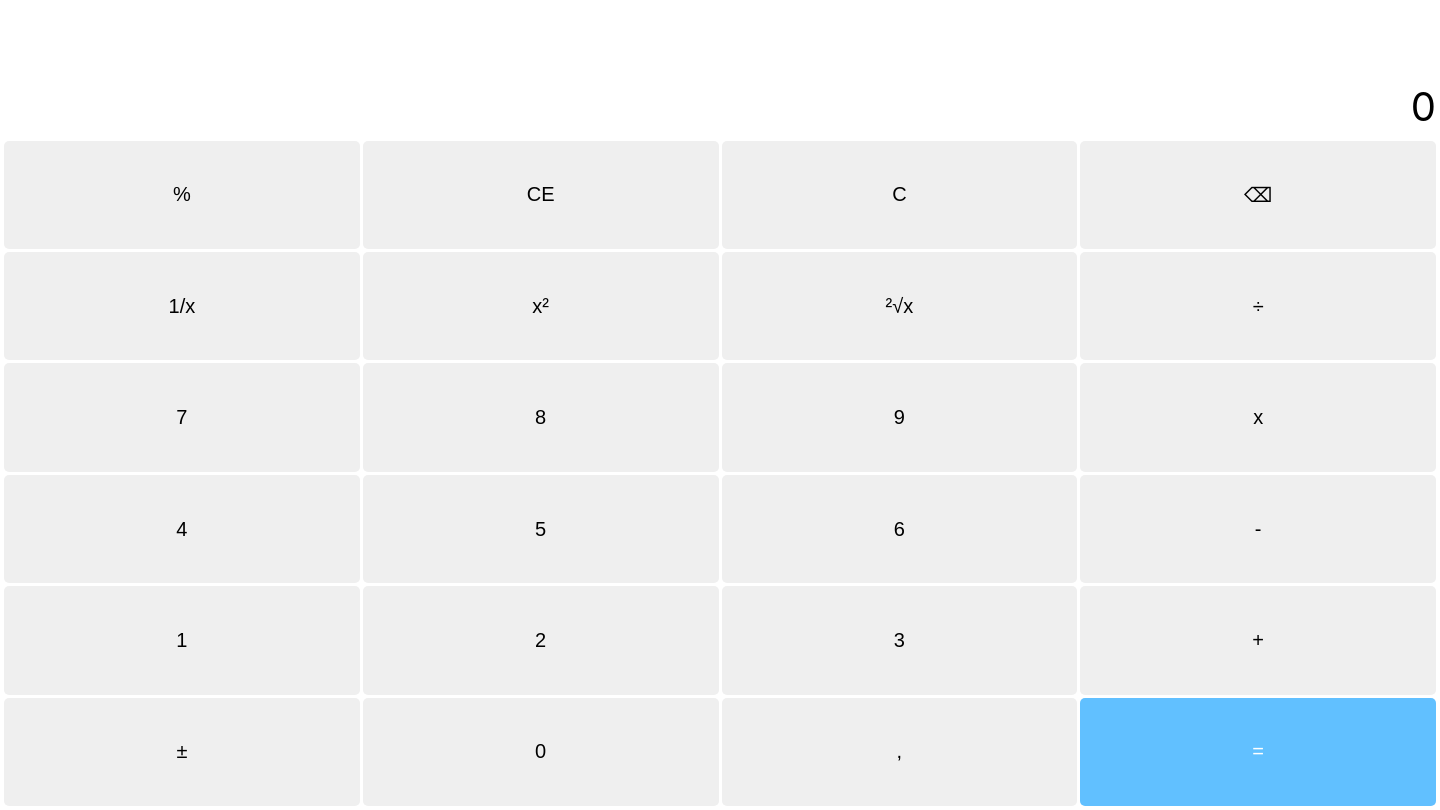
Test: Calculator component › clear entry
Click the button with test id "key-1".
click(182, 640)  # box top-left (4, 586), bottom-right (360, 695)
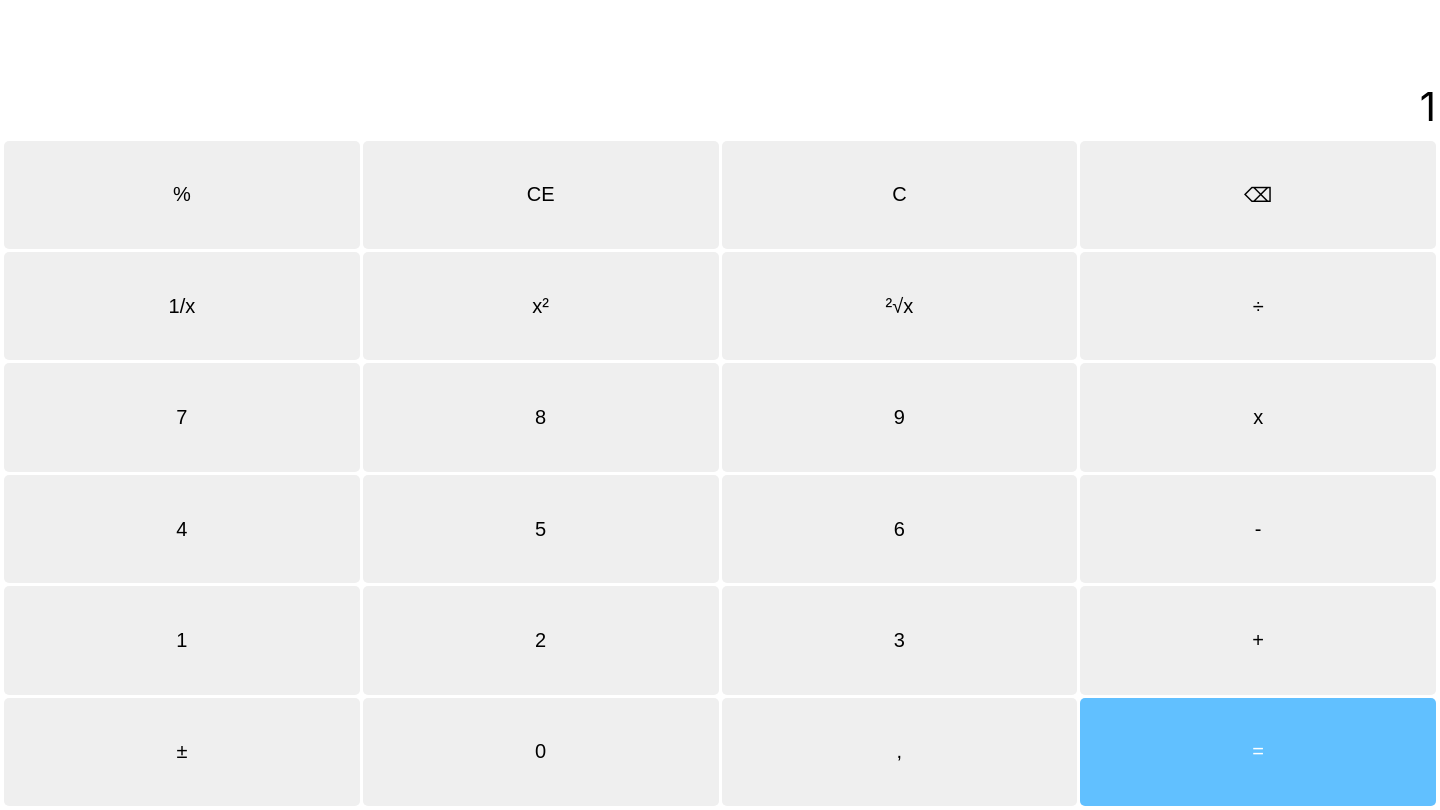
Click the button with test id "key-1".
click(182, 640)  # box top-left (4, 586), bottom-right (360, 695)
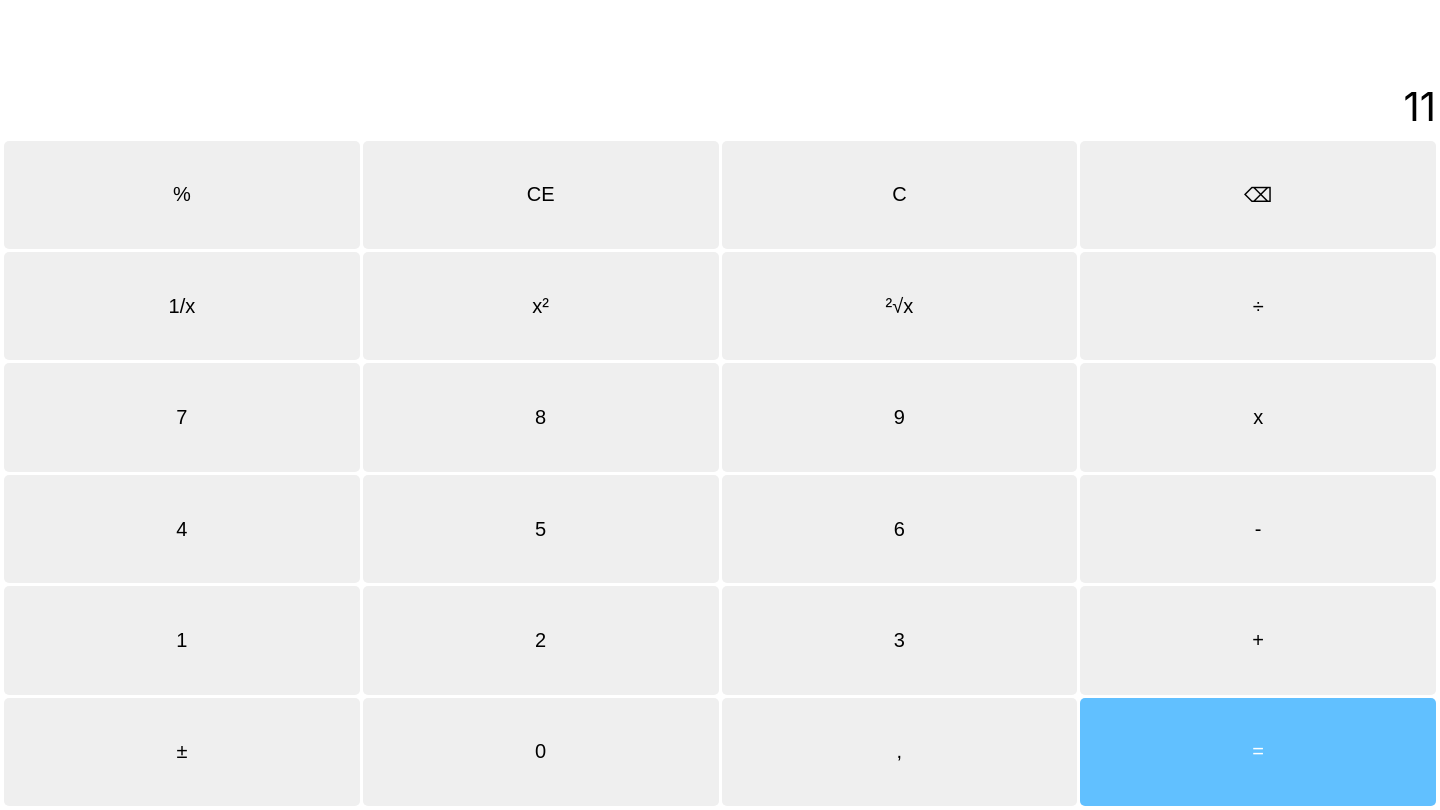
Click the button with test id "key-clear-entry".
click(541, 195)  # box top-left (363, 141), bottom-right (719, 249)
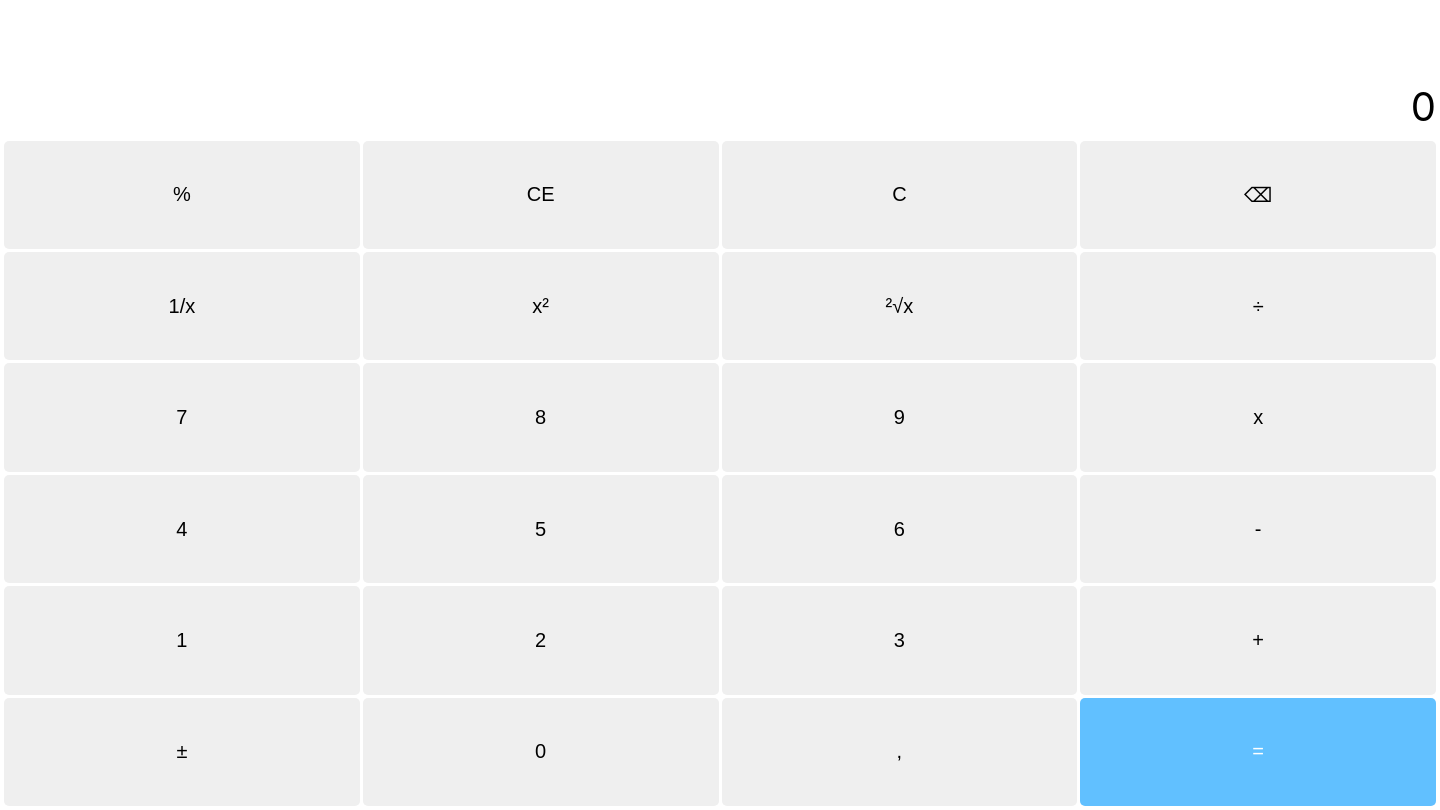
expect the text with test id "main-display" reads "0": met, box top-left (1411, 82), bottom-right (1436, 131)
